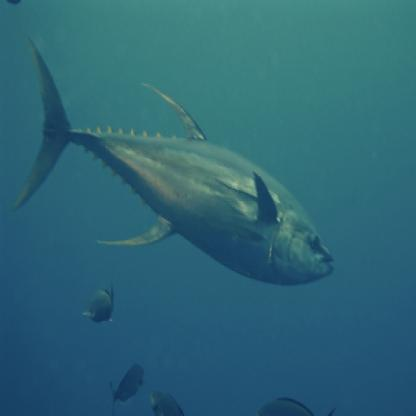Scombridae -Tunas-: (5, 29, 338, 289)
